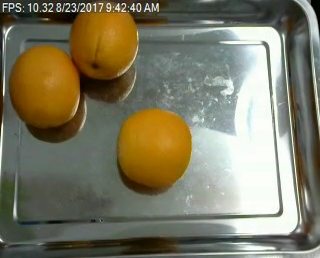Orange: (9, 44, 80, 128), (117, 108, 190, 187), (68, 1, 138, 79)
